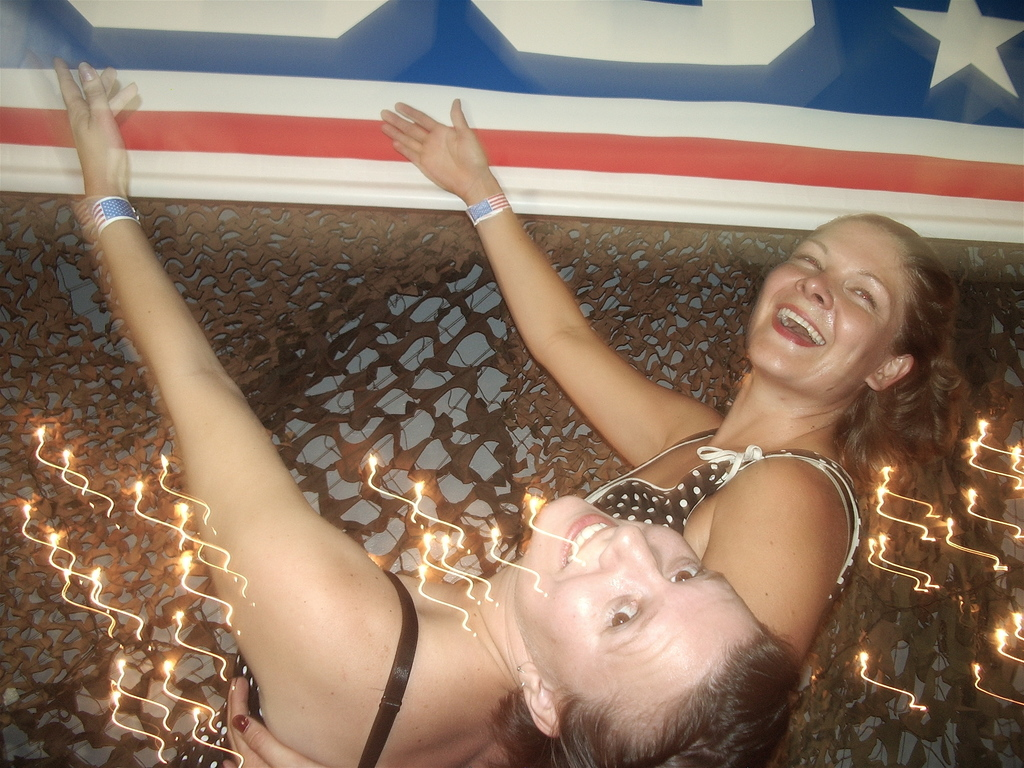Human_hand: (51, 52, 141, 195), (385, 93, 504, 198), (221, 673, 326, 767)
